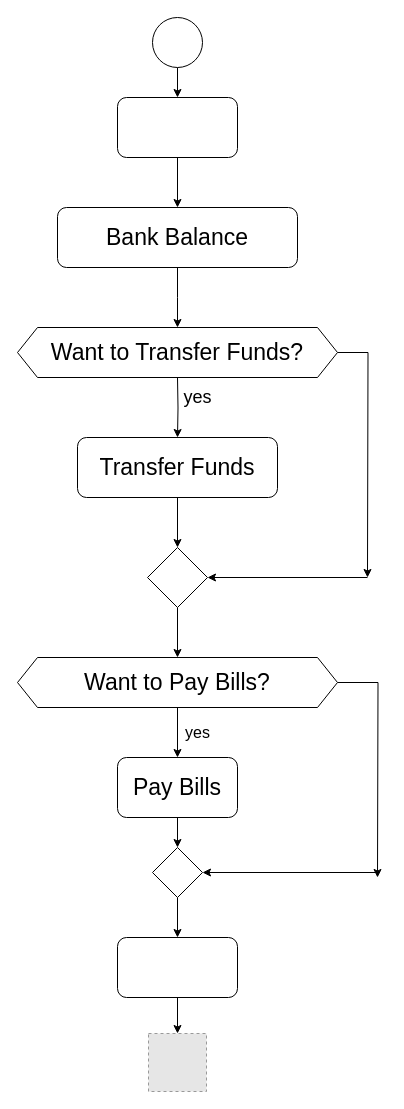
The diagram is 404 pixels wide and 1109 high, and some of its shapes have lost their labels. Grey dashed boxes stand in for pictures. The shapes that lost their labels are listed below. From the top down, each one's box as (x1, y1, x2, y2) in pixels, then its label:
(116, 96, 238, 158): Login
(116, 936, 238, 998): Logout
